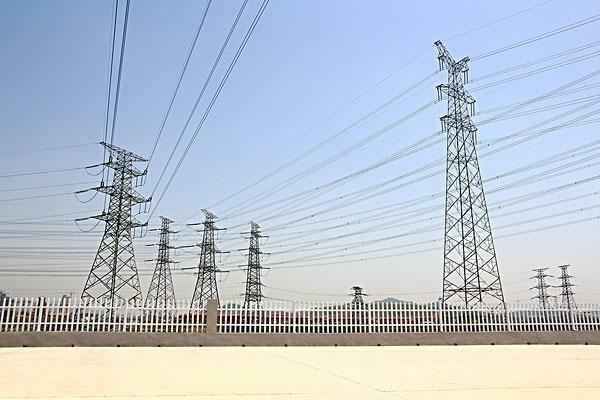power_tower: (430, 34, 511, 309), (79, 136, 151, 304), (186, 203, 236, 305), (233, 214, 277, 308), (144, 209, 187, 304), (555, 259, 583, 311), (525, 264, 552, 308)
